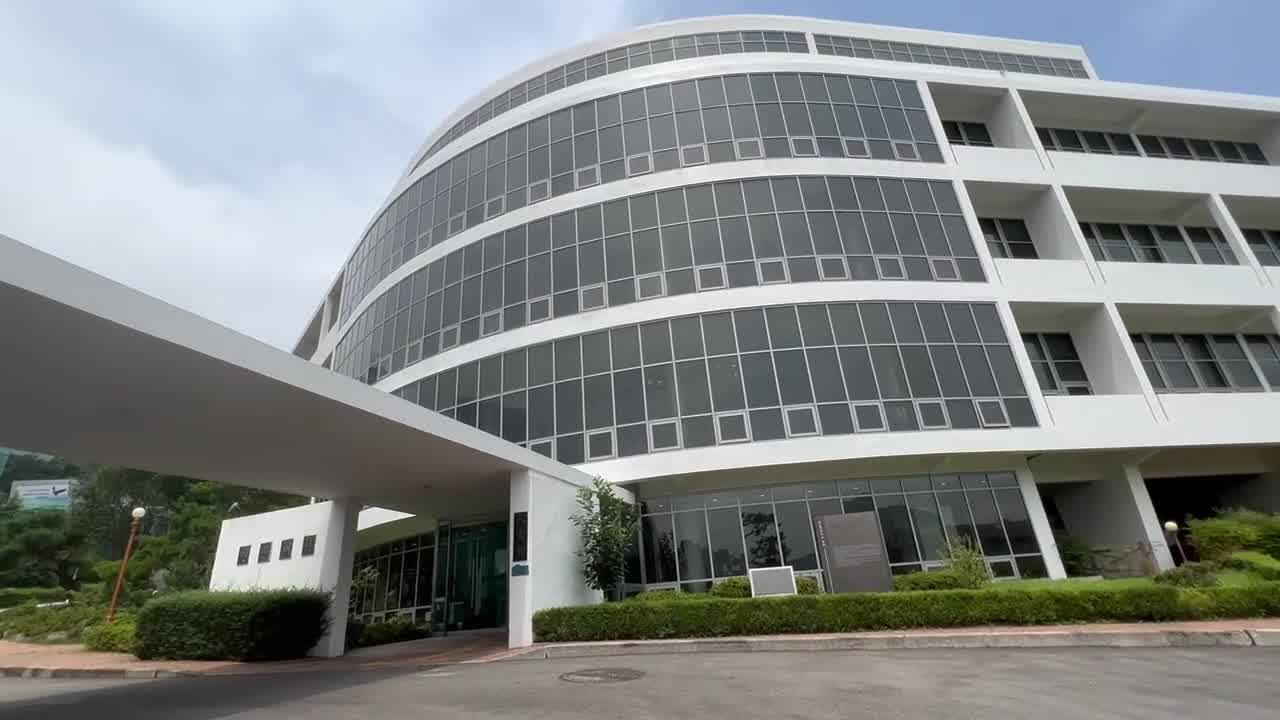building: (472, 20, 1246, 501)
